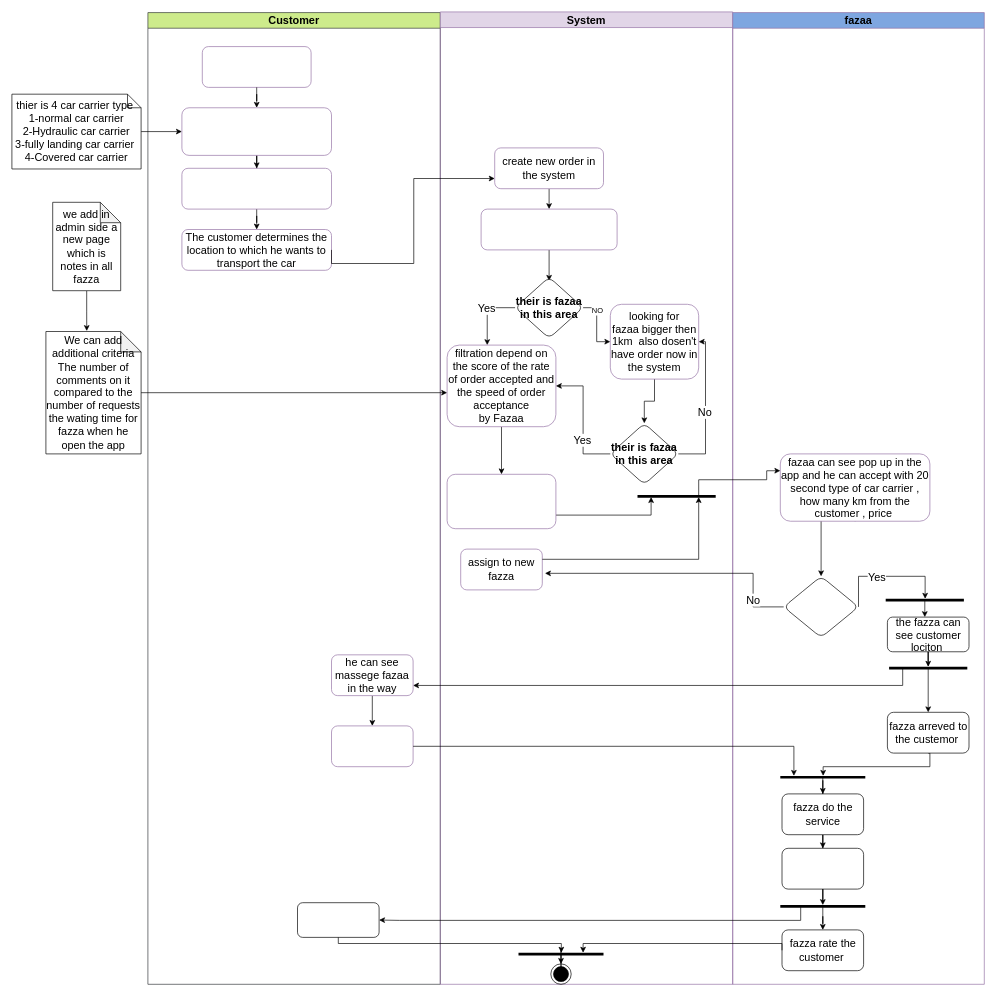
The diagram is 996 pixels wide and 996 high, and some of its shapes have lost their labels. Each missing label, with the centre of its shape:
accept the order: (821,607)
assign to fazaa by the criteria acceptance order rate ,acceptance speed rate: (501,501)
custmoer rating the fazza: (338,919)
custmor need car carrier: (256,66)
fazza finish the service: (822,868)
looking for fazaa Within 1 km also dosen't have order now in the system: (548,229)
make the pyment: (372,746)
Making an order by choosing the car carrier type he needs: (256,131)
The customer determines the location of the car: (256,188)
